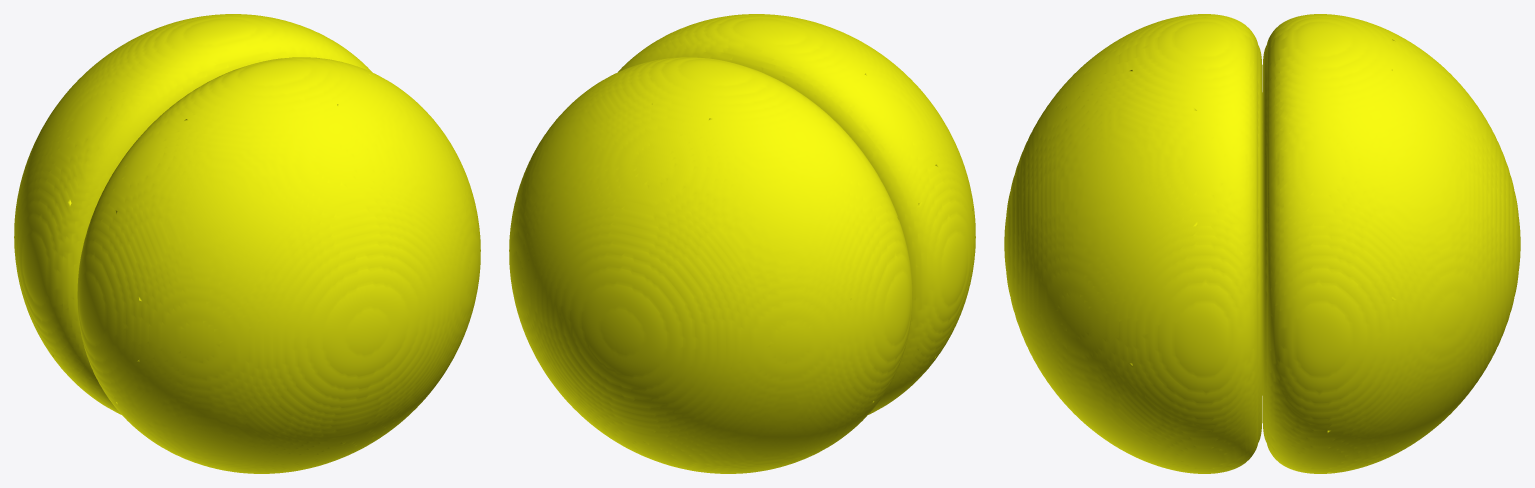
File: orb_n=6_ l=1 _m=-1.fbx
3 views of the same model, side by side, from view 1: azimuth 30°, elevation 25°; view 2: azimuth 150°, elevation 25°; view 3: azimuth 270°, elevation 25° (orthographic). The views are drawn at different scales.
Parts seen in each view (by area): view 1: orb_n=6_ l=1 _m=-1; view 2: orb_n=6_ l=1 _m=-1; view 3: orb_n=6_ l=1 _m=-1.
Part boxes in pixels (x1,y1,x2,y2): orb_n=6_ l=1 _m=-1: (14,14,480,473); orb_n=6_ l=1 _m=-1: (509,14,975,473); orb_n=6_ l=1 _m=-1: (1004,14,1520,473).
Bounding box in the file's own units: 25399 × 25399 × 28519.
